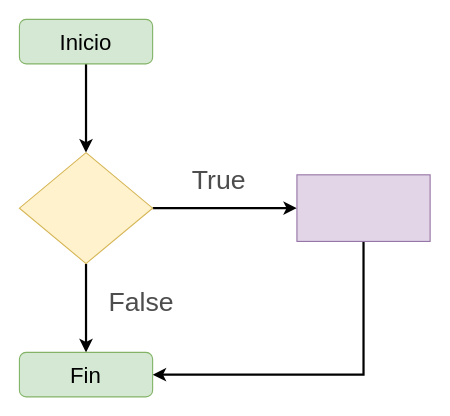
This 450x416 diagram has some shape labels left out. The shapes that lost their labels are listed below. From the top down, each one's centre as x and y in pixels, then its label:
At (x=85, y=208): "Condición".
At (x=363, y=207): "Ejecutar bloque if".
